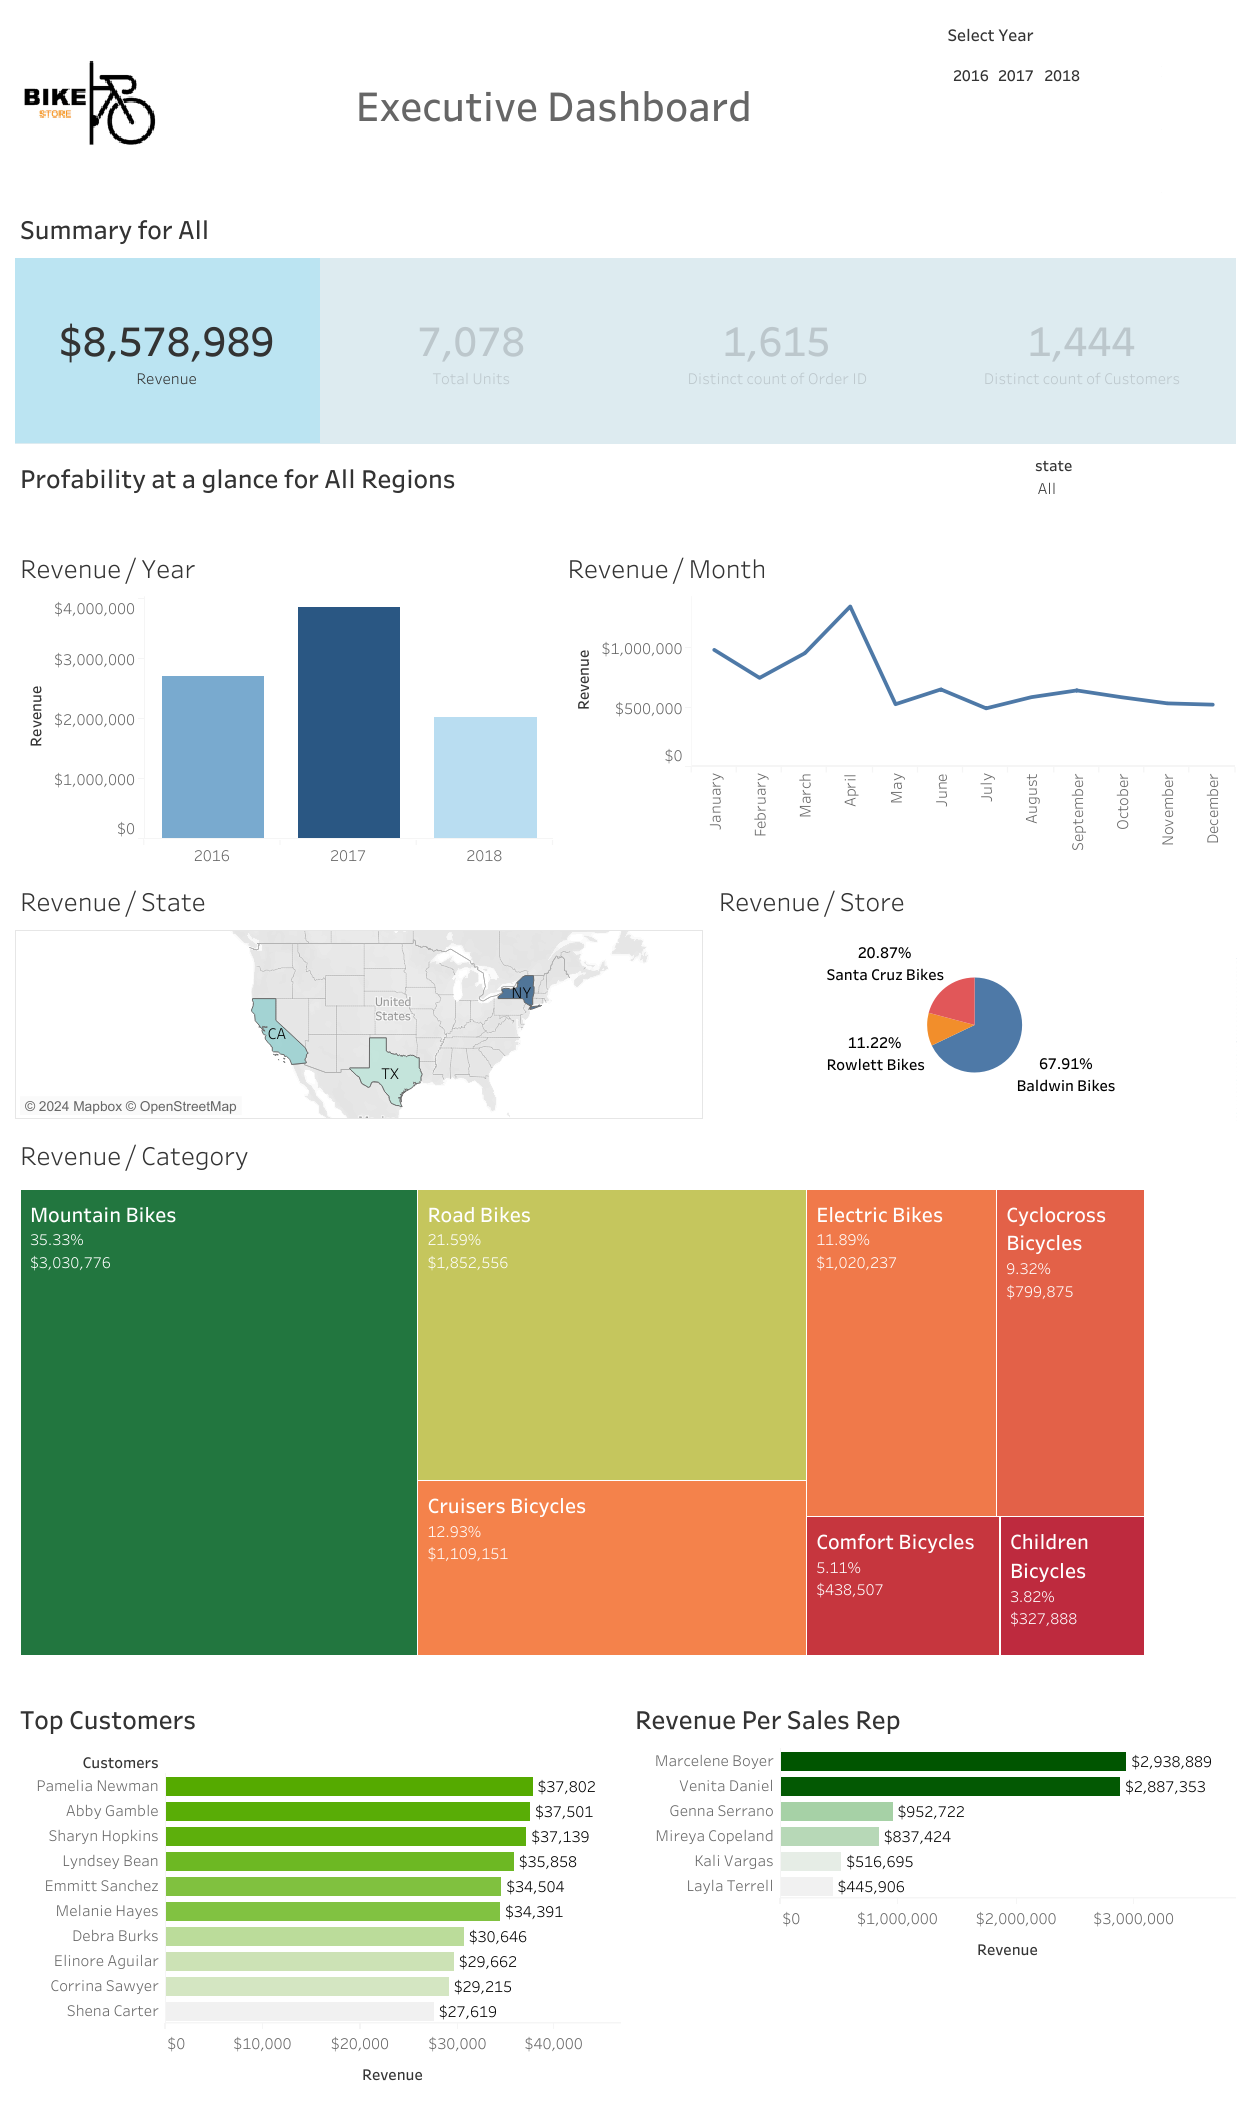

This screenshot's page, from the dashboard's own definition file:
{"tool":"tableau","page":{"name":"Dashboard 1","canvas":[1000,1000],"units":"permille","ordinal":0},"visuals":[{"type":"image","param":"Image/Ekran görüntüsü 2024-09-26 130354.png","box":[8,4.7,128,88.8]},{"type":"text","box":[136,4.7,614,88.8]},{"type":"worksheet","title":"Year","mark":"Automatic","box":[750,4.7,242,88.8]},{"type":"worksheet","title":" Banner","mark":"Automatic","box":[8,93.5,984,117.1]},{"type":"worksheet","title":"Title","mark":"Automatic","box":[8,210.6,816,42.4]},{"type":"filter","title":"Revenue / State","param":"[federated.1b5kuir1g65x7j1h7rmaq1w9b8kn].[none:state:nk]","box":[824,210.6,168,42.4]},{"type":"worksheet","title":"Revenue / Year","mark":"Bar","rows":["revenue"],"cols":["order_date"],"box":[8,252.9,438,157.1]},{"type":"worksheet","title":"Revenue / Month","mark":"Automatic","rows":["revenue"],"cols":["order_date"],"box":[446,252.9,546,157.1]},{"type":"worksheet","title":"Revenue / State","mark":"Multipolygon","box":[8,410,559,119.4]},{"type":"worksheet","title":"Revenue / Store","mark":"Pie","box":[567,410,425,119.4]},{"type":"worksheet","title":"Revenue / Category","mark":"Automatic","box":[8,529.4,984,258.2]},{"type":"worksheet","title":"Top Customers","mark":"Automatic","rows":["customers"],"cols":["revenue"],"box":[8,794.7,492,200.6]},{"type":"worksheet","title":"Revenue / Sales Rep","mark":"Automatic","rows":["sales_rep"],"cols":["revenue"],"box":[500,794.7,492,200.6]}]}

Visuals, with their boxes on the dashboard's canvas, which has no fixed pixel size, in thousandths of its width and height (x1, y1, x2, y2). These are canvas units, not pixel positions in the 1249x2124 screenshot, which may show the page scaled, cropped or inside an application window:
image: {"left": 8, "top": 5, "right": 136, "bottom": 94}
text: {"left": 136, "top": 5, "right": 750, "bottom": 94}
"Year" worksheet: {"left": 750, "top": 5, "right": 992, "bottom": 94}
" Banner" worksheet: {"left": 8, "top": 94, "right": 992, "bottom": 211}
"Title" worksheet: {"left": 8, "top": 211, "right": 824, "bottom": 253}
"Revenue / State" filter: {"left": 824, "top": 211, "right": 992, "bottom": 253}
"Revenue / Year" worksheet (Bar marks): {"left": 8, "top": 253, "right": 446, "bottom": 410}
"Revenue / Month" worksheet: {"left": 446, "top": 253, "right": 992, "bottom": 410}
"Revenue / State" worksheet (Multipolygon marks): {"left": 8, "top": 410, "right": 567, "bottom": 529}
"Revenue / Store" worksheet (Pie marks): {"left": 567, "top": 410, "right": 992, "bottom": 529}
"Revenue / Category" worksheet: {"left": 8, "top": 529, "right": 992, "bottom": 788}
"Top Customers" worksheet: {"left": 8, "top": 795, "right": 500, "bottom": 995}
"Revenue / Sales Rep" worksheet: {"left": 500, "top": 795, "right": 992, "bottom": 995}
